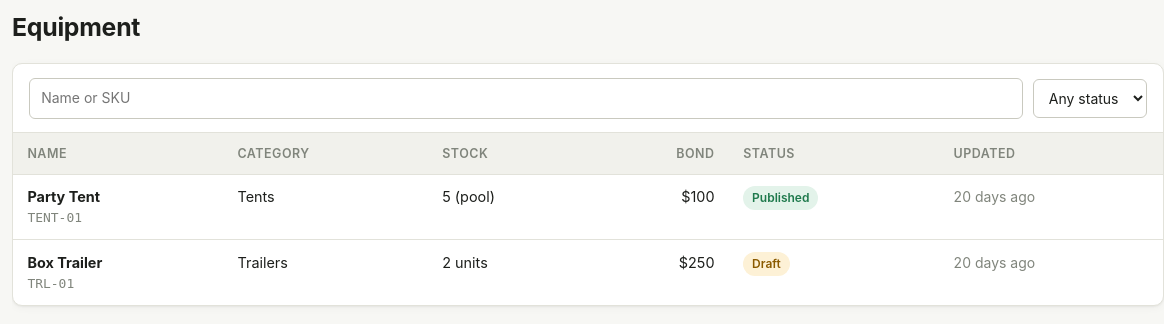
Scenario: Equipment list filters › asks the API for draft equipment and shows only drafts when Draft is selected
Expected: the text "Party Tent" is shown, [27,188,100,205]
Expected: the text "Box Trailer" is shown, [27,254,102,270]
Note: choose "Draft" in the status filter
Select "Draft" in the dropdown named "Status": (1090, 98) [1033,79,1147,118]
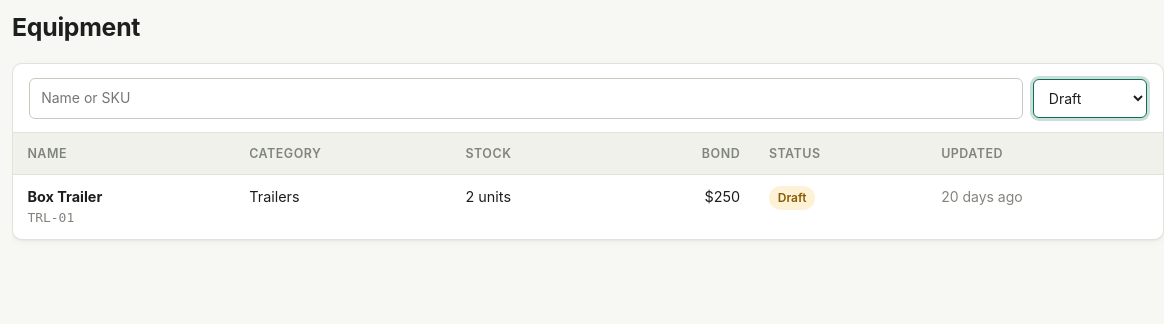
Expected: the text "Box Trailer" is shown, [27,188,102,205]
Expected: the text "Party Tent" is gone
